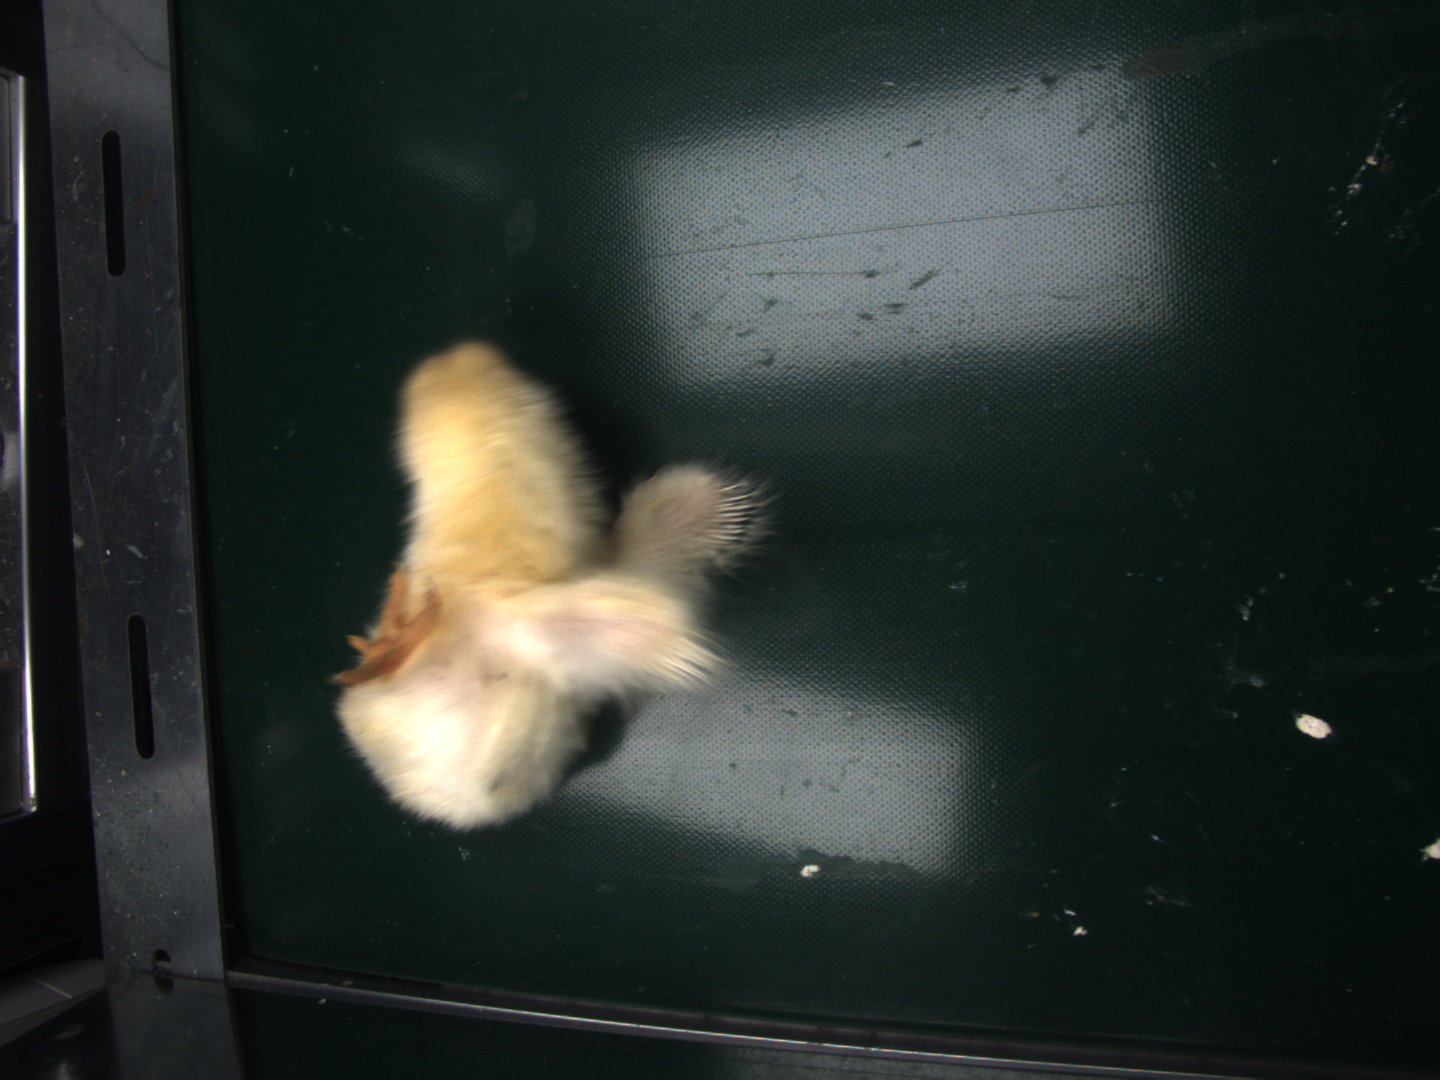male: (710, 479, 753, 547)
